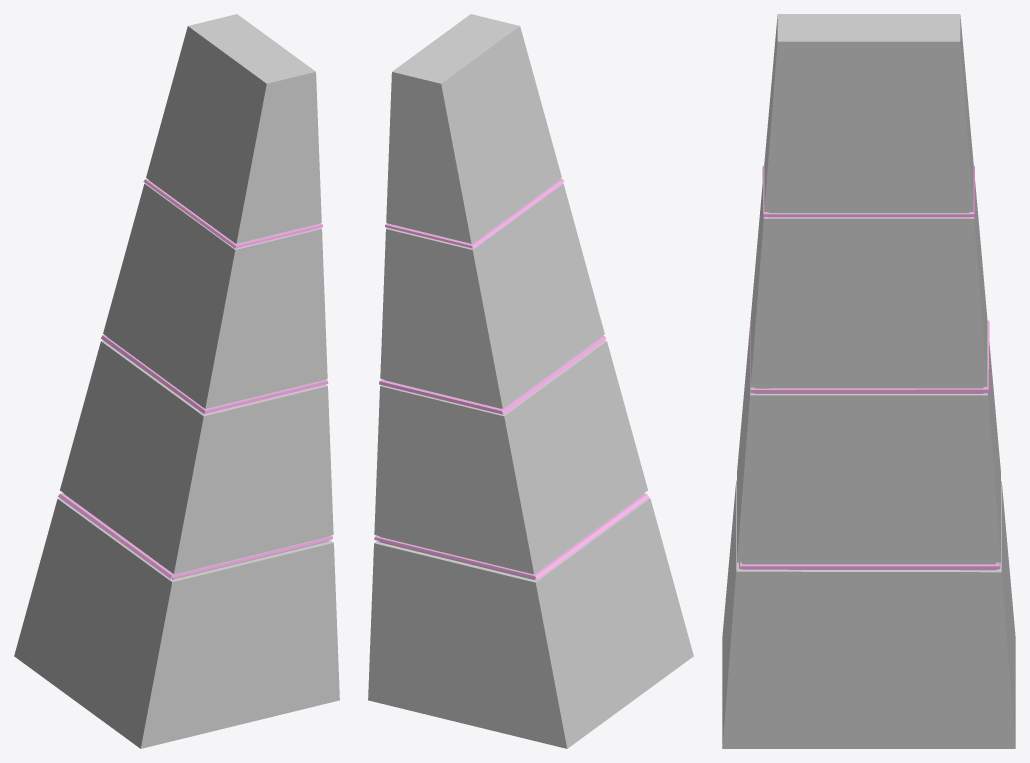
Rendered from SM_Environment_Buildings_Mid_05.fbx.
3 views of the same model, side by side, from view 1: azimuth 30°, elevation 25°; view 2: azimuth 150°, elevation 25°; view 3: azimuth 270°, elevation 25° (orthographic). The views are drawn at different scales.
Parts seen in each view (by area): view 1: SM_Environment_Buildings_Mid_05, Lights; view 2: SM_Environment_Buildings_Mid_05, Lights; view 3: SM_Environment_Buildings_Mid_05, Lights.
Boxes of the visible parts, x1,y1,x2,y2 form: SM_Environment_Buildings_Mid_05: (14,14,339,748); Lights: (58,178,332,578); SM_Environment_Buildings_Mid_05: (368,14,693,748); Lights: (374,178,649,579); SM_Environment_Buildings_Mid_05: (722,14,1015,748); Lights: (739,165,1000,569).
Size of the model in its own units: 12.6 by 36.8 by 13.82.
